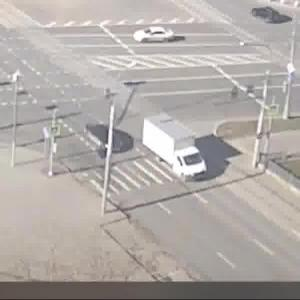car: (142, 114, 209, 185), (84, 121, 127, 159), (135, 26, 177, 47), (252, 5, 285, 28)
